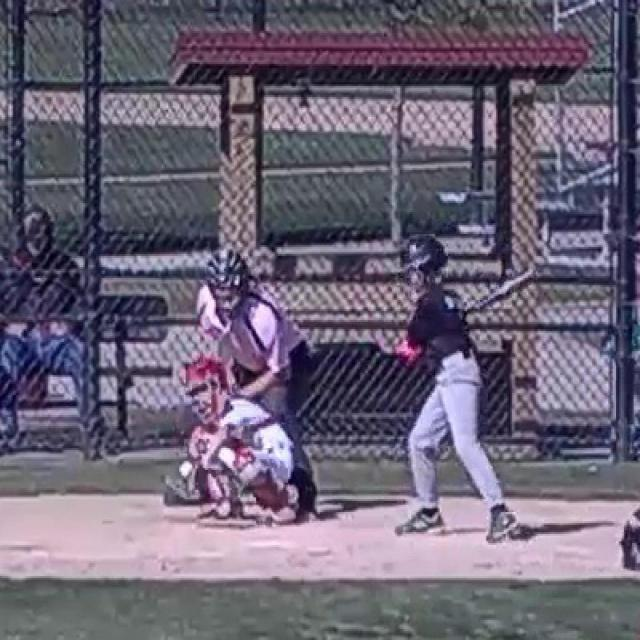baseball: (180, 462, 192, 476)
